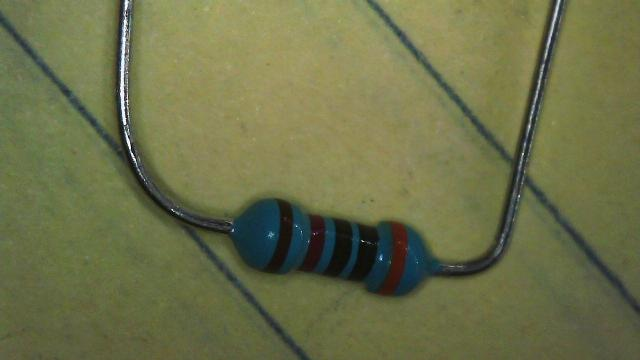black: (359, 224, 378, 281), (333, 222, 353, 271)
brown: (276, 199, 293, 272)
orange: (390, 223, 408, 294)
red: (308, 213, 324, 269)
resistor: (214, 173, 458, 318)
